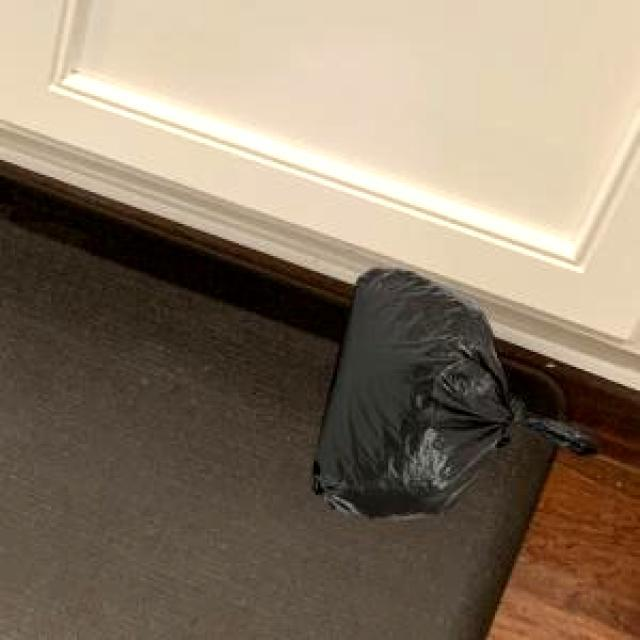Garbage_Bag: (310, 266, 594, 516)
